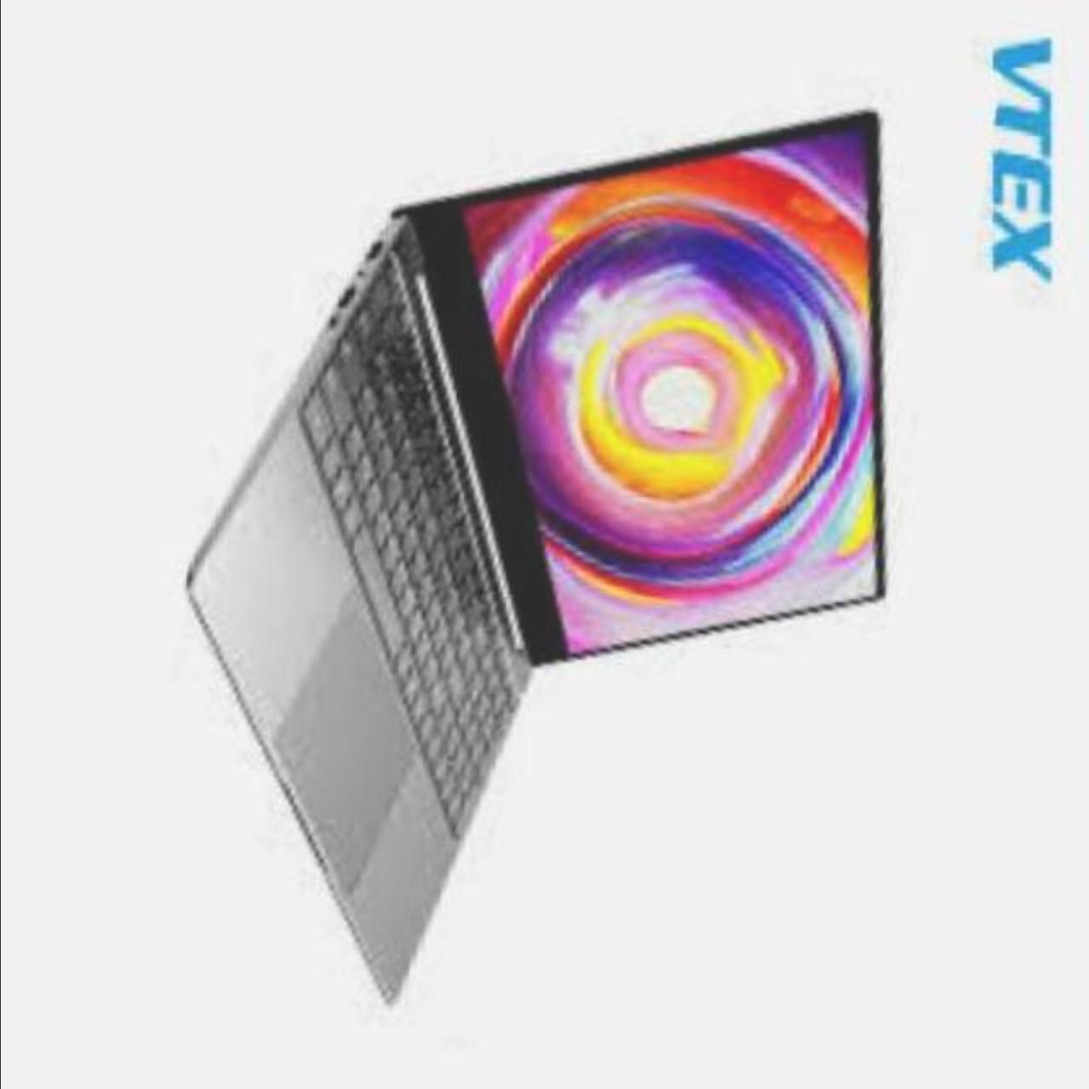laptop: (156, 1, 964, 1071)
